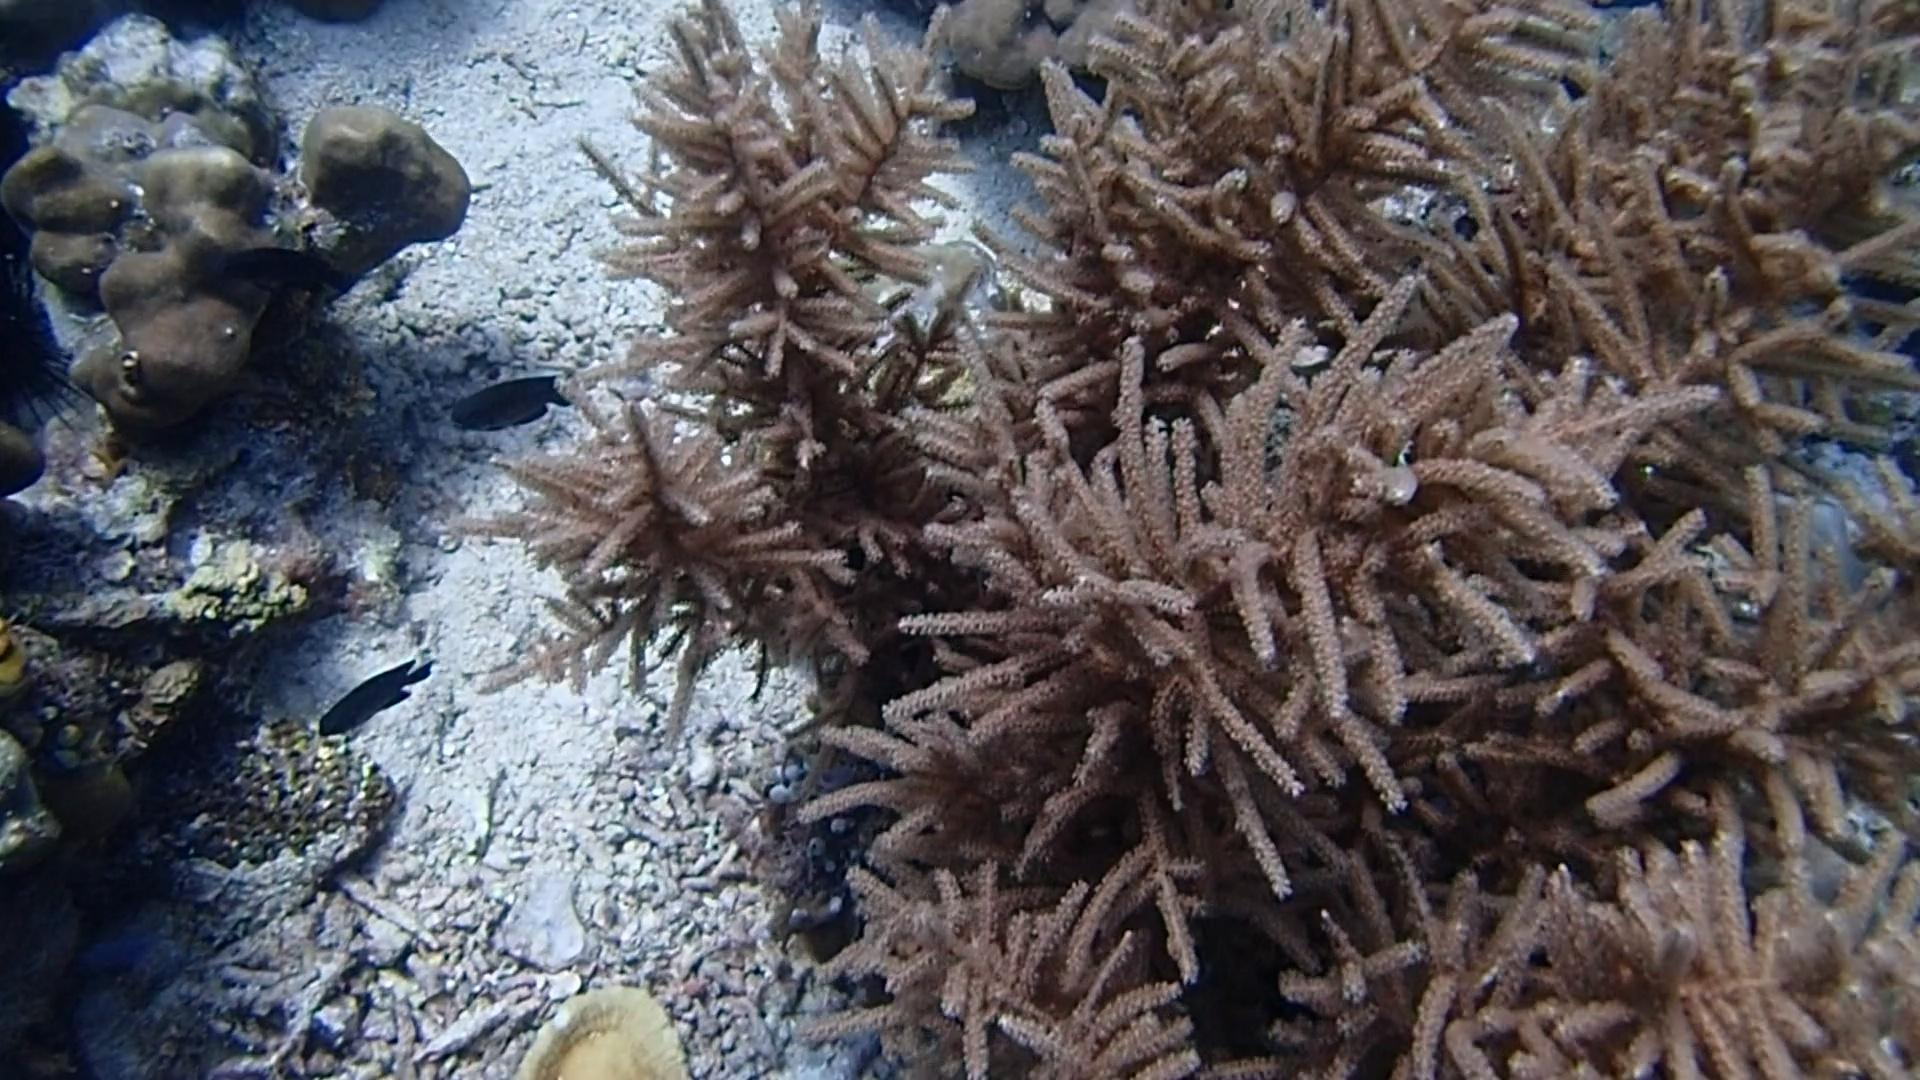Dark Fish: (313, 634, 446, 752), (438, 359, 595, 443), (225, 236, 352, 301)
